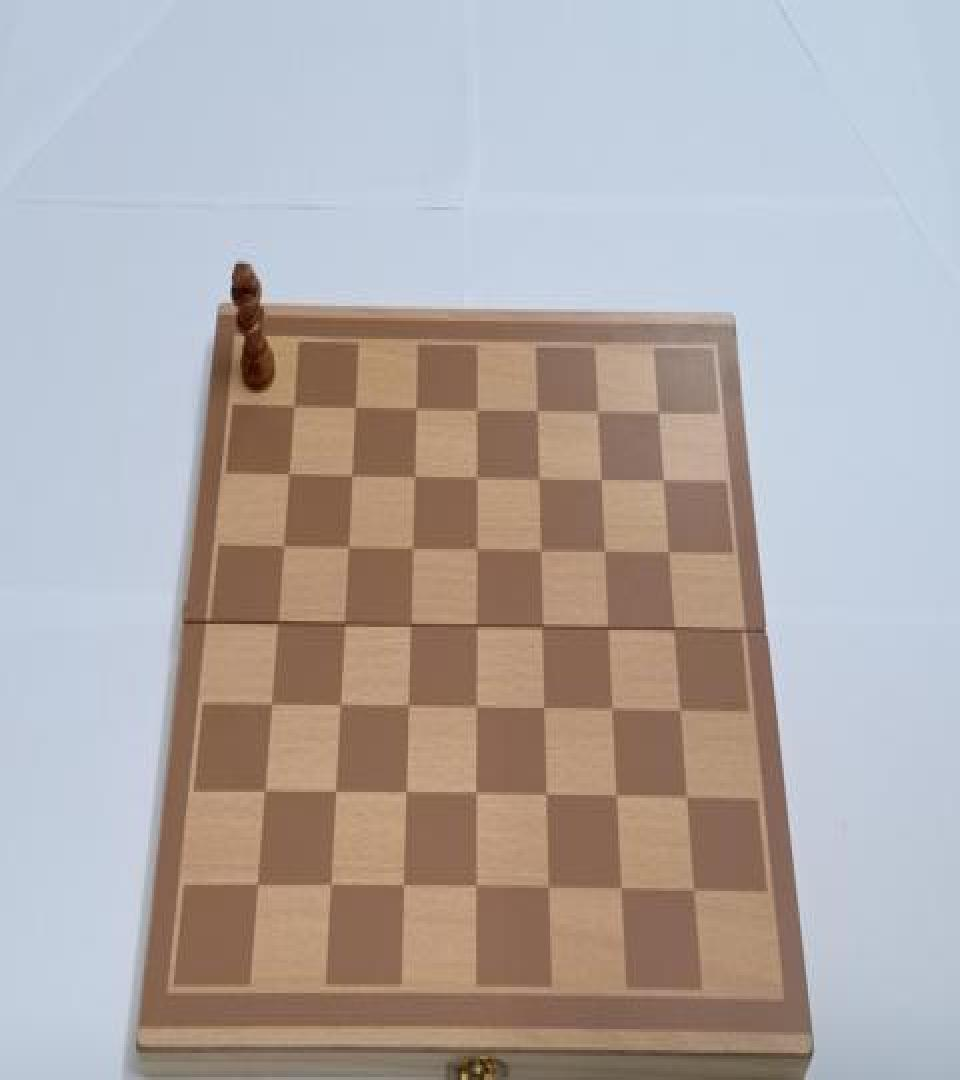xcorner: (287, 394, 305, 422), (347, 394, 365, 422), (331, 694, 349, 722), (399, 694, 417, 722), (591, 466, 609, 494), (281, 462, 299, 489), (276, 534, 294, 561), (270, 610, 288, 637), (263, 693, 281, 720), (256, 780, 274, 807), (249, 874, 267, 901), (336, 612, 354, 639), (322, 874, 340, 901), (407, 396, 425, 423), (397, 783, 415, 810), (395, 876, 413, 903), (467, 396, 485, 423), (467, 465, 485, 492), (467, 537, 485, 564), (467, 696, 485, 723), (468, 783, 486, 810), (528, 397, 546, 424), (529, 465, 547, 492), (531, 538, 549, 565), (533, 615, 551, 642), (538, 785, 556, 812), (541, 879, 559, 906), (588, 397, 606, 424), (595, 538, 613, 565), (600, 617, 618, 644), (609, 786, 627, 813), (614, 880, 632, 907), (648, 399, 666, 426), (654, 468, 672, 495), (659, 540, 677, 567), (666, 617, 684, 644), (672, 699, 690, 726), (687, 880, 705, 907), (343, 464, 361, 490), (340, 536, 358, 562), (327, 782, 345, 808), (405, 464, 423, 490), (403, 536, 421, 562), (401, 614, 419, 640), (467, 614, 485, 640), (468, 878, 486, 904), (536, 698, 554, 724), (604, 698, 622, 724), (679, 788, 697, 814)
